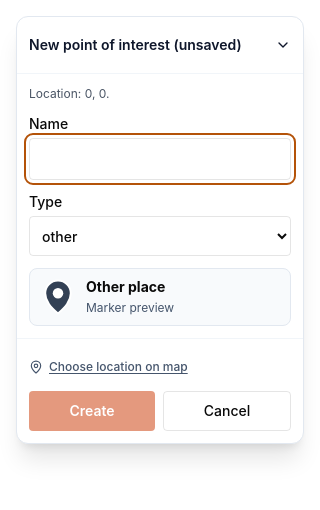
Scenario: failed poi POST keeps an unsaved draft without adding a marker
Type "Draft" into the field labelled "Name".
click(160, 159); type("Draft")  # box left=29, top=138, right=291, bottom=180
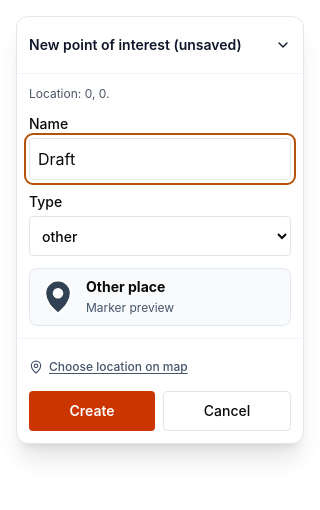
Click the button "Create".
click(92, 411)  # box left=29, top=391, right=155, bottom=431
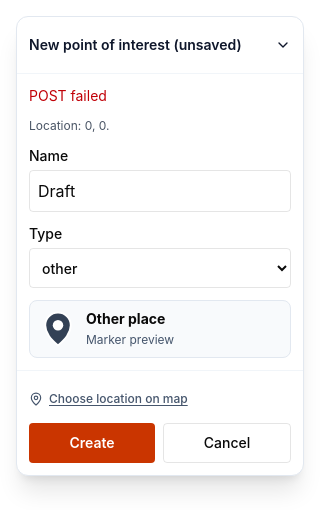
Expected: the text "New point of interest (unsaved)" is shown, left=29, top=35, right=242, bottom=55
Result: the message reads "POST failed" at left=29, top=87, right=107, bottom=104
